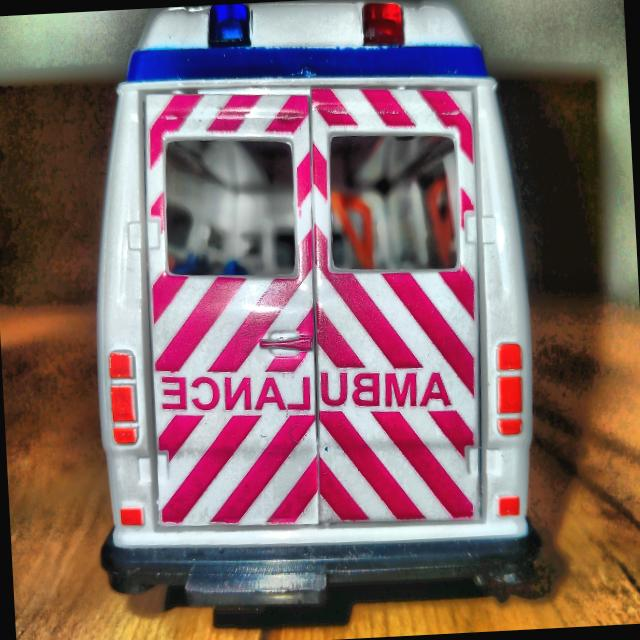Ambulance: (73, 0, 543, 633)
